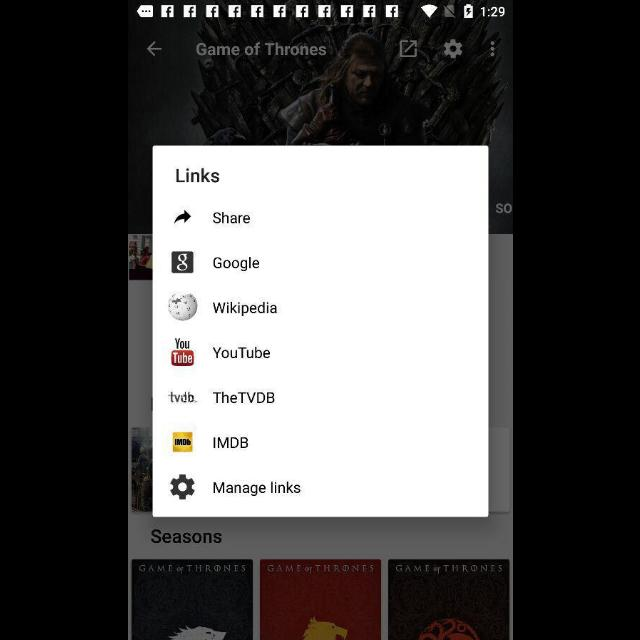icon: (170, 475, 194, 499), (171, 252, 193, 274), (442, 40, 462, 58), (399, 41, 416, 58), (173, 211, 190, 223), (147, 43, 161, 57), (490, 42, 494, 58)
image: (388, 560, 508, 640), (260, 560, 380, 640), (132, 560, 252, 640), (168, 293, 196, 321), (171, 338, 193, 366), (168, 388, 196, 404), (172, 432, 192, 452)
panel: (152, 146, 488, 518)
text: (196, 42, 324, 56), (212, 482, 300, 496), (151, 529, 221, 543), (212, 302, 276, 316), (212, 392, 274, 404), (176, 168, 220, 184), (212, 347, 270, 359), (213, 257, 259, 271), (212, 212, 250, 224), (213, 437, 247, 448)
uppertaskbar: (128, 1, 512, 23)
